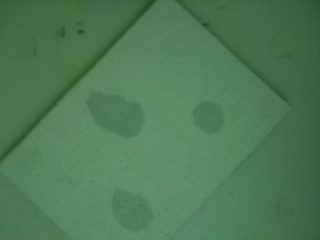Water_detected: (97, 100, 140, 141), (116, 183, 151, 216), (199, 103, 222, 138)
